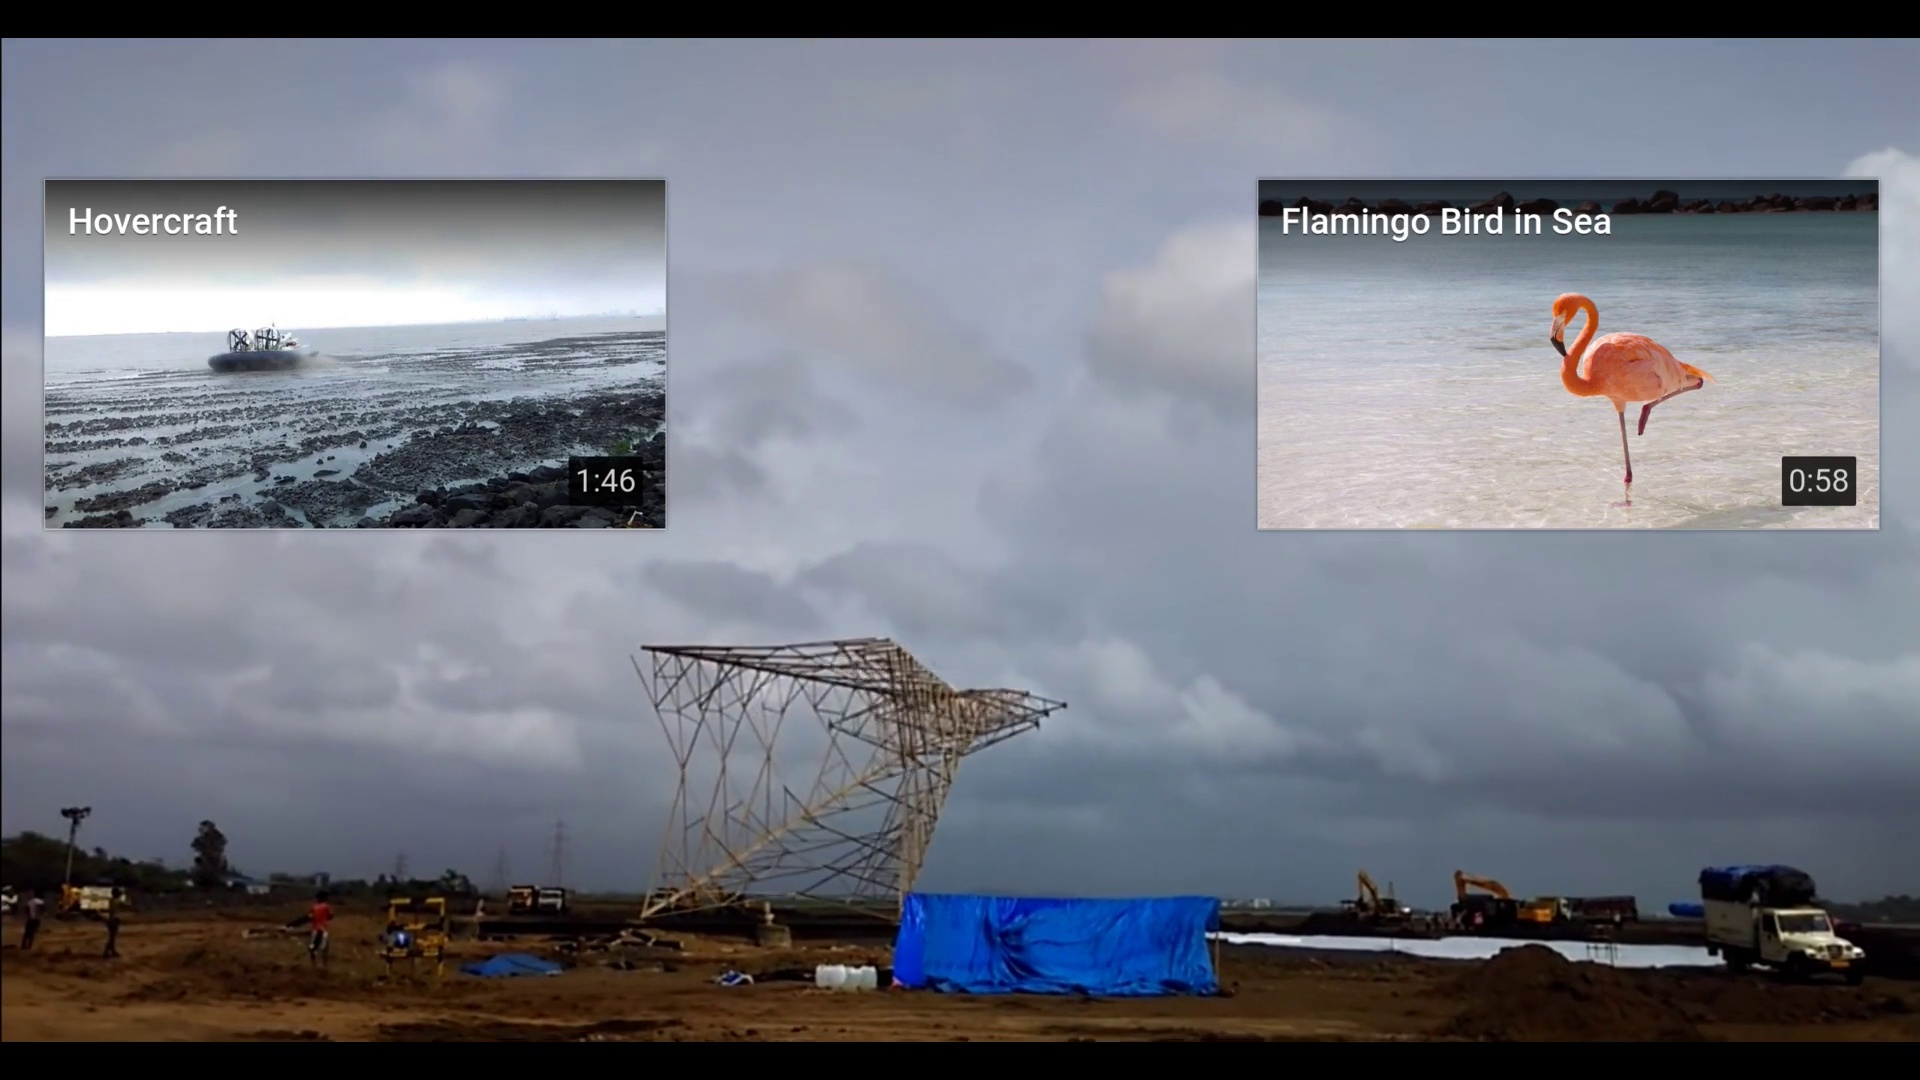tower_up: (615, 593, 1079, 942)
